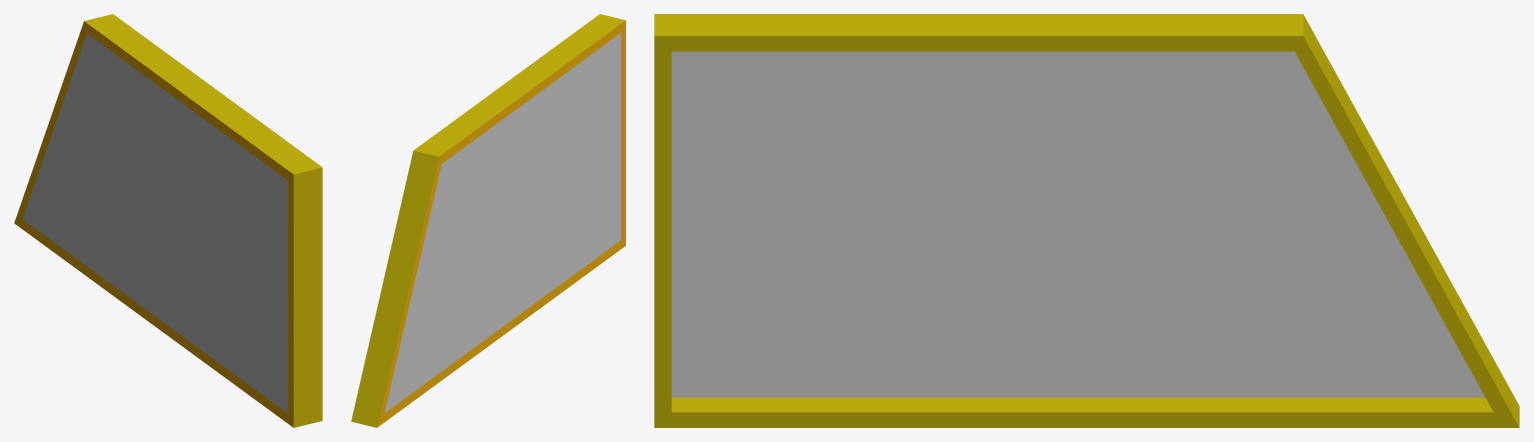
The model's file is window_slanted_connection_3x1x2.dae.
3 renders of one model, left to right at view 1: azimuth 30°, elevation 25°; view 2: azimuth 150°, elevation 25°; view 3: azimuth 270°, elevation 25°, orthographic. The views are drawn at different scales.
Visible parts, largest first — view 1: Cube; view 2: Cube; view 3: Cube.
Boxes of the visible parts, x1=… form: Cube: x1=14, y1=14, x2=322, y2=427; Cube: x1=351, y1=14, x2=625, y2=427; Cube: x1=654, y1=14, x2=1519, y2=427.
Size of the model in its own units: 0.06 by 1 by 0.5.
